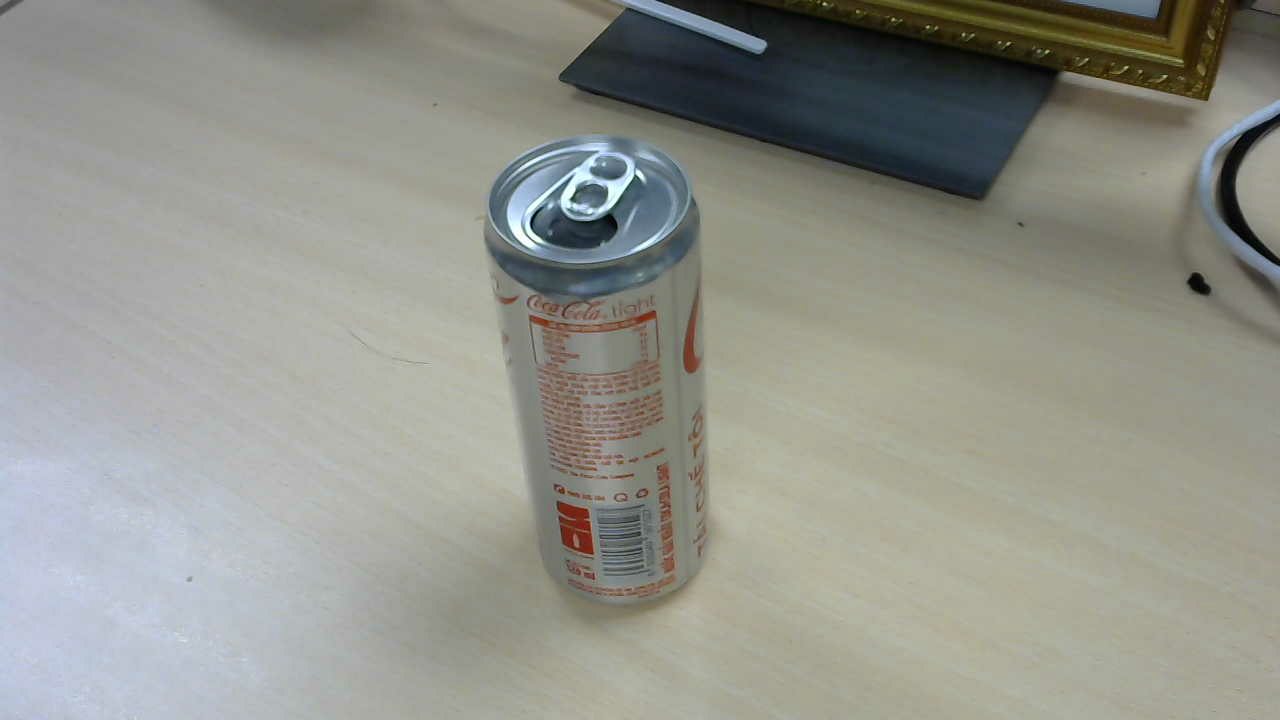Coca_Cola: (488, 137, 717, 623)
